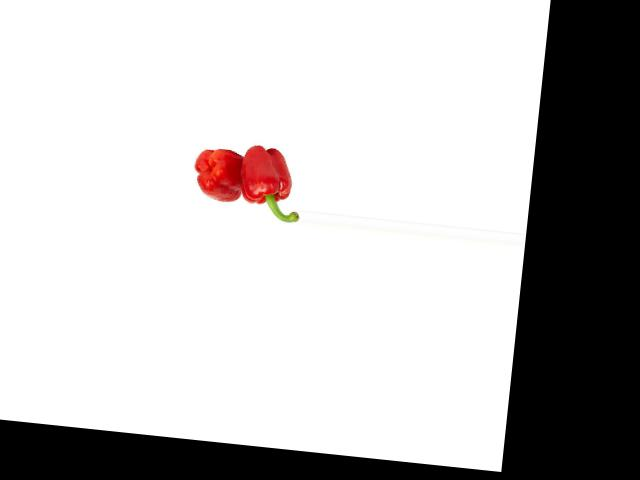bell_pepper: (191, 143, 246, 206)
